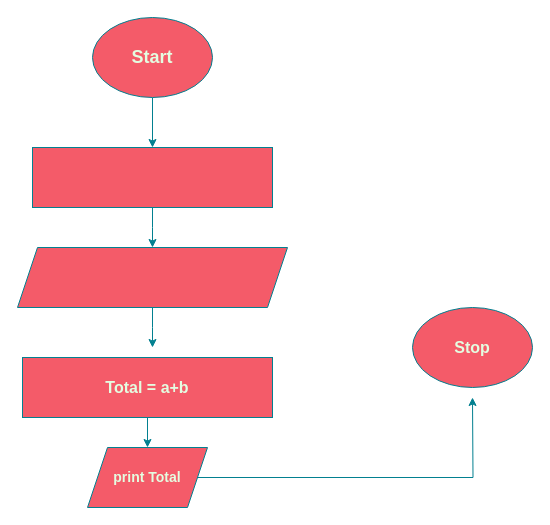
This 550x525 diagram has some shape labels left out. The shapes that lost their labels are listed below. From the top down, each one's centre as x and y in pixels, then its label:
At point 152,177: "Declare variable a,b and Total".
At point 152,277: "Read a and b".
